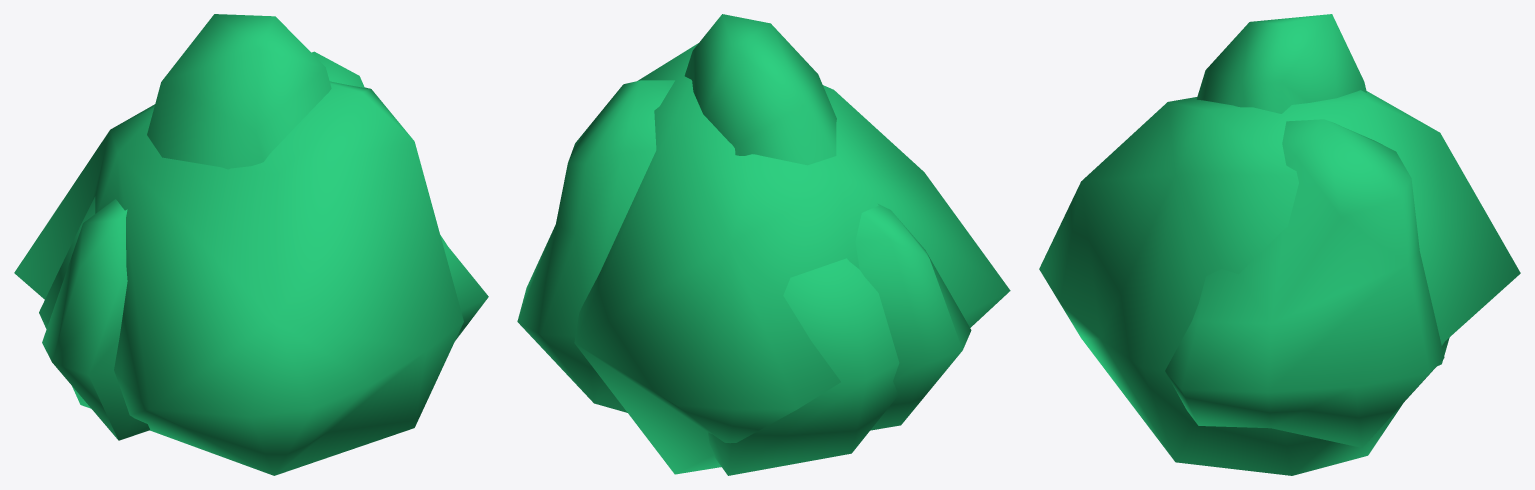
Rendered from snowrocks.fbx.
3 views of the same model, side by side, from view 1: azimuth 30°, elevation 25°; view 2: azimuth 150°, elevation 25°; view 3: azimuth 270°, elevation 25° (orthographic).
Visible parts, largest first — view 1: boulder base00 superhigh, boulder base01 superhigh, boulder base03 superhigh, boulder base02 superhigh; view 2: boulder base00 superhigh, boulder base03 superhigh, boulder base02 superhigh, boulder base01 superhigh; view 3: boulder base00 superhigh, boulder base03 superhigh, boulder base01 superhigh.
Boxes of the visible parts, x1,y1,x2,y2 form: boulder base00 superhigh: [14, 81, 463, 475]; boulder base01 superhigh: [147, 14, 331, 169]; boulder base03 superhigh: [42, 51, 488, 440]; boulder base02 superhigh: [39, 196, 95, 408]; boulder base00 superhigh: [574, 43, 1010, 474]; boulder base03 superhigh: [517, 80, 971, 430]; boulder base02 superhigh: [708, 258, 899, 475]; boulder base01 superhigh: [684, 14, 836, 165]; boulder base00 superhigh: [1039, 90, 1520, 475]; boulder base03 superhigh: [1165, 119, 1444, 447]; boulder base01 superhigh: [1196, 14, 1366, 113].
Size of the model in its own units: 23558 by 24031 by 24441.
